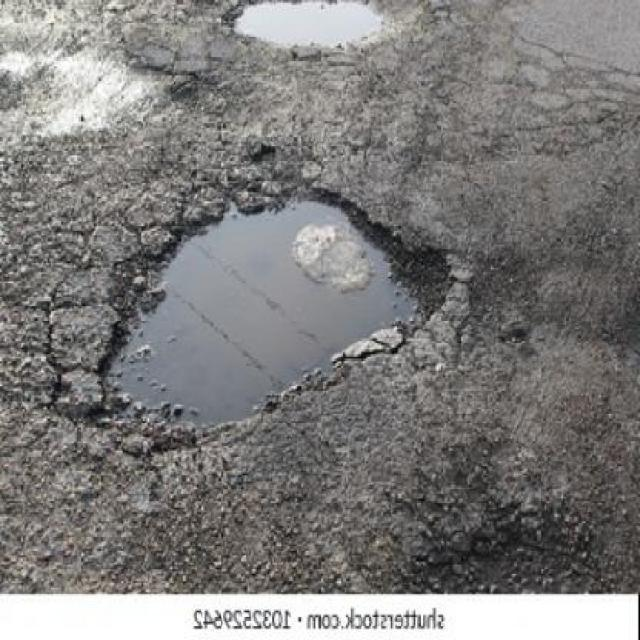Pothole: (85, 174, 476, 466), (209, 0, 442, 62)
